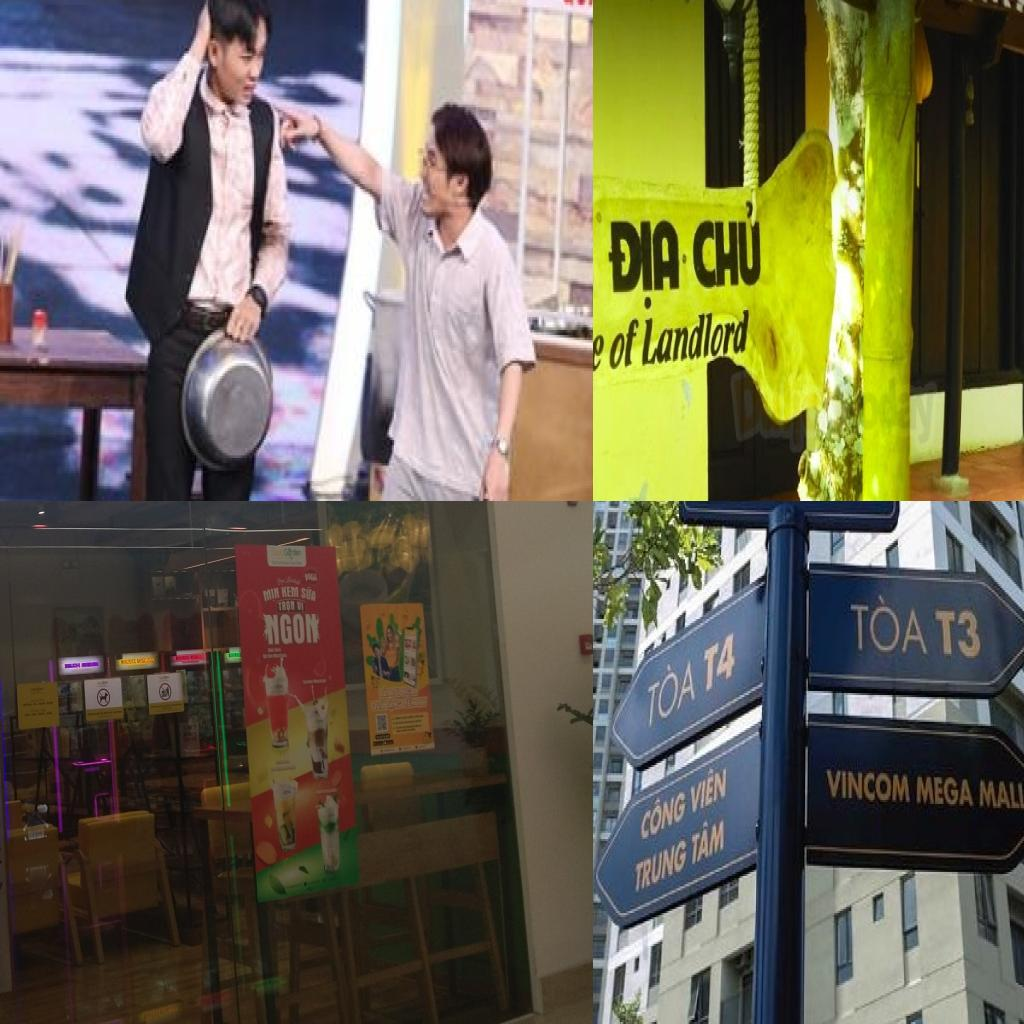text: (601, 210, 684, 317), (690, 192, 770, 298), (849, 590, 929, 656), (647, 650, 698, 732), (634, 839, 690, 895), (824, 769, 912, 804), (605, 297, 640, 382), (640, 784, 688, 845), (934, 609, 983, 658), (702, 631, 738, 697), (690, 761, 728, 818), (691, 812, 727, 868), (915, 775, 976, 808), (263, 612, 319, 647), (261, 586, 281, 606), (301, 585, 318, 604), (280, 585, 300, 600), (277, 600, 296, 614), (384, 698, 403, 712), (283, 546, 303, 558), (371, 698, 387, 713), (402, 696, 416, 710), (402, 686, 419, 697), (415, 696, 429, 708), (304, 572, 319, 583), (378, 686, 390, 698), (390, 686, 402, 698), (296, 600, 305, 614)
